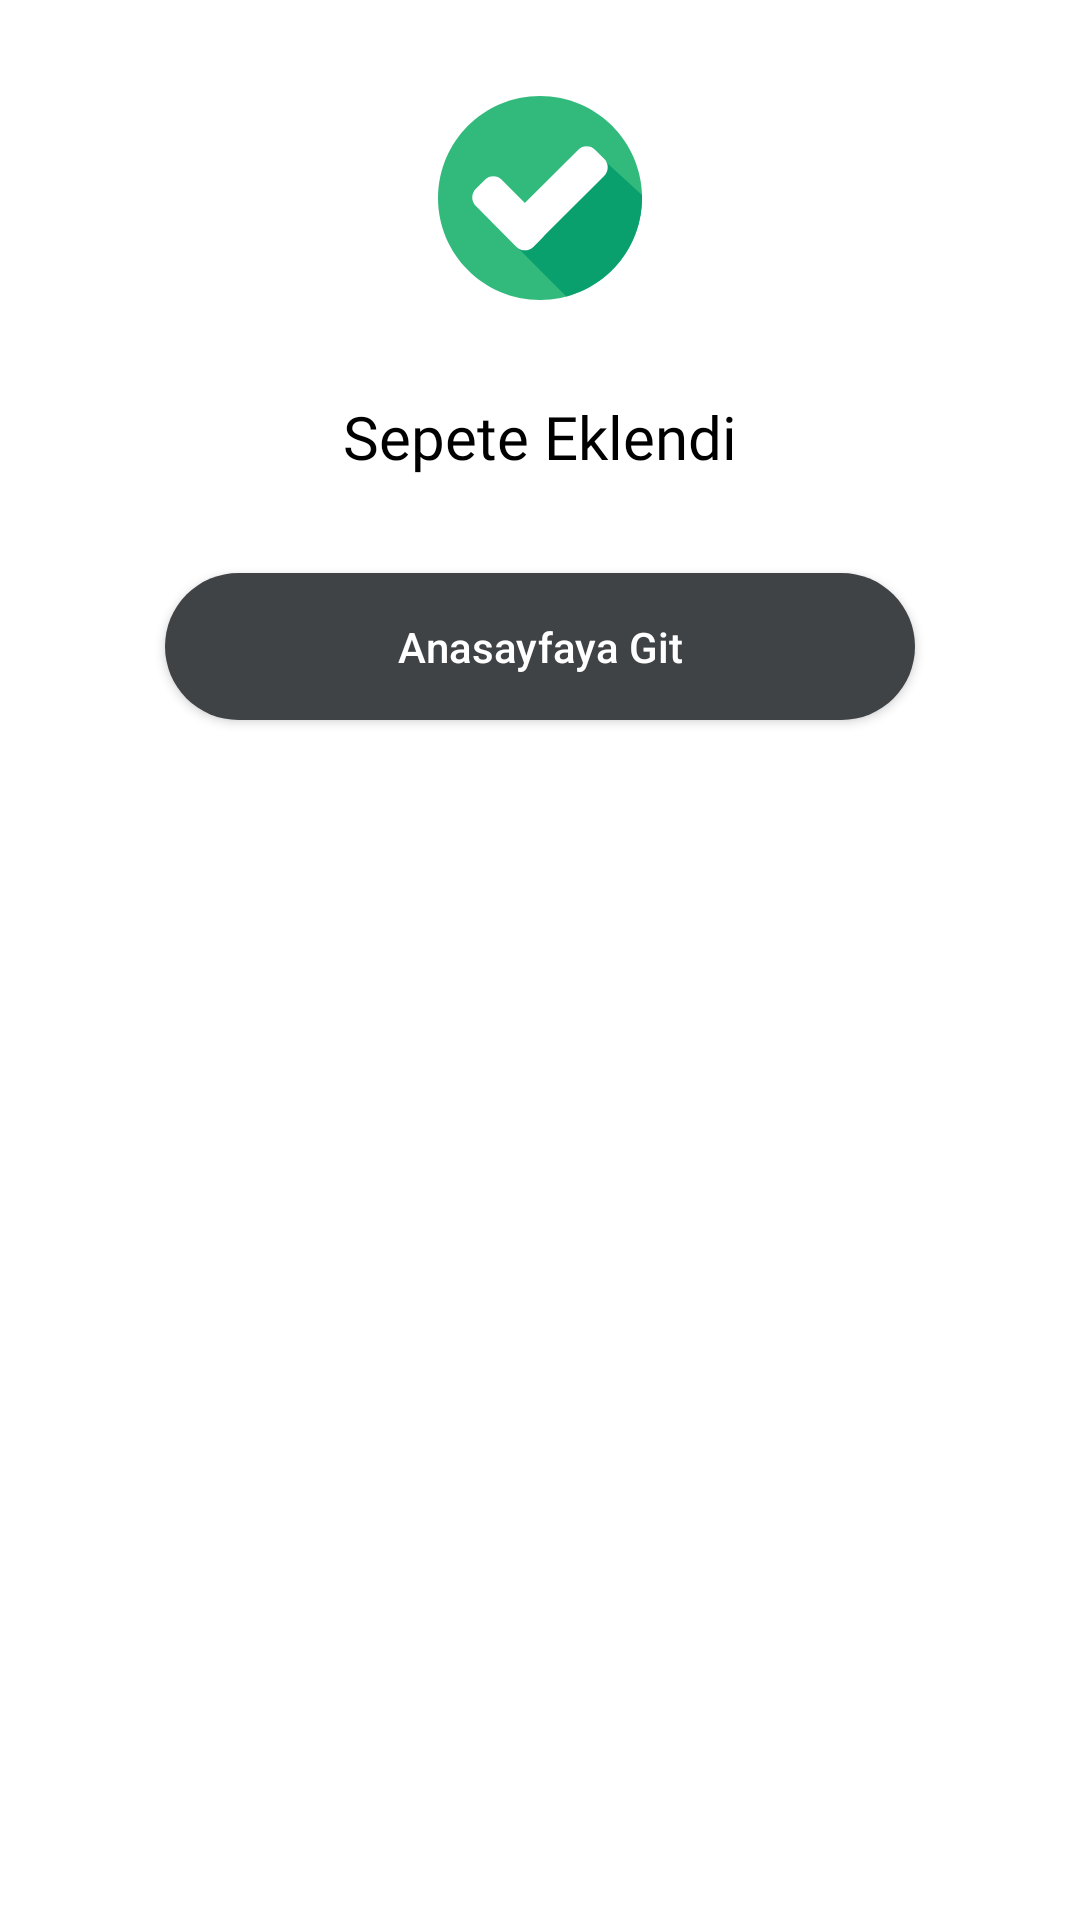

Icon bounding boxes for this 1080px×1920px phone screenshot, format (x1,y1,x2,y2):
checked: (438,96,642,300)
